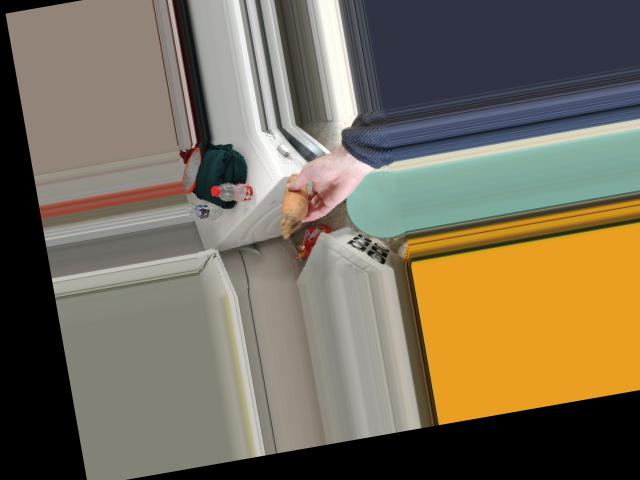sweet_potato: (277, 179, 310, 221)
